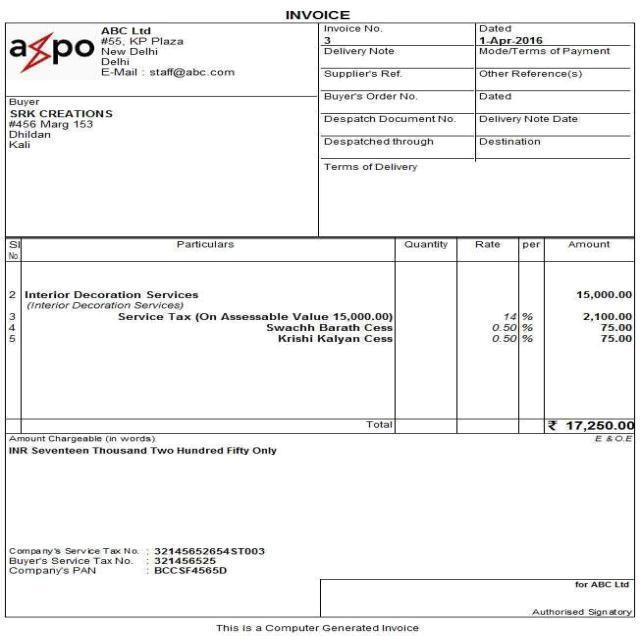paragraph: (320, 24, 627, 178), (7, 545, 275, 578), (99, 24, 240, 79), (6, 433, 281, 460), (362, 419, 635, 445), (7, 96, 115, 150), (525, 578, 634, 621), (4, 30, 94, 72), (213, 619, 421, 636), (282, 6, 351, 21)
table: (1, 236, 636, 386)
